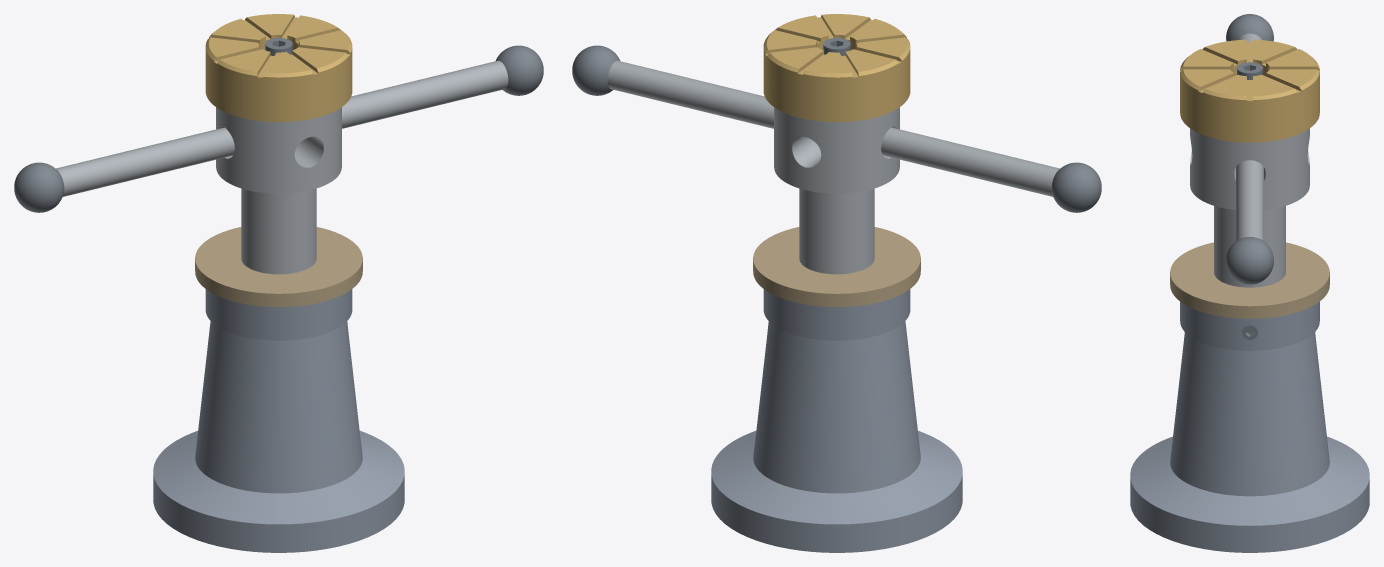
File: step_18.glb
3 views of the same model, side by side, from view 1: azimuth 30°, elevation 25°; view 2: azimuth 150°, elevation 25°; view 3: azimuth 270°, elevation 25° (orthographic). The views are drawn at different scales.
Parts seen in each view (by area): view 1: part__body, part__screw spindle, part__load cup, part__tommy bar, part__bronze bush, part__bar end ball 2, part__bar end ball 1; view 2: part__body, part__screw spindle, part__load cup, part__tommy bar, part__bronze bush, part__bar end ball 2, part__bar end ball 1; view 3: part__body, part__load cup, part__screw spindle, part__bronze bush, part__tommy bar, part__bar end ball 1, part__bar end ball 2, part__cap screw M8 x 25.
Boxes of the visible parts, <box> form: part__body: <box>153,289,404,552</box>; part__screw spindle: <box>216,107,341,274</box>; part__load cup: <box>205,14,352,122</box>; part__tommy bar: <box>56,60,508,196</box>; part__bronze bush: <box>195,227,362,307</box>; part__bar end ball 2: <box>14,162,64,212</box>; part__bar end ball 1: <box>495,45,543,95</box>; part__body: <box>711,289,962,552</box>; part__screw spindle: <box>774,107,899,274</box>; part__load cup: <box>763,14,910,122</box>; part__tommy bar: <box>607,60,1059,196</box>; part__bronze bush: <box>753,227,920,307</box>; part__bar end ball 2: <box>1051,162,1101,212</box>; part__bar end ball 1: <box>572,45,620,95</box>; part__body: <box>1130,301,1369,552</box>; part__load cup: <box>1180,39,1319,142</box>; part__screw spindle: <box>1190,128,1309,287</box>; part__bronze bush: <box>1170,242,1329,318</box>; part__tommy bar: <box>1236,33,1263,240</box>; part__bar end ball 1: <box>1226,237,1273,284</box>; part__bar end ball 2: <box>1226,14,1273,41</box>; part__cap screw M8 x 25: <box>1237,62,1262,79</box>.
Size of the model in its own units: 288 by 240 by 120.
